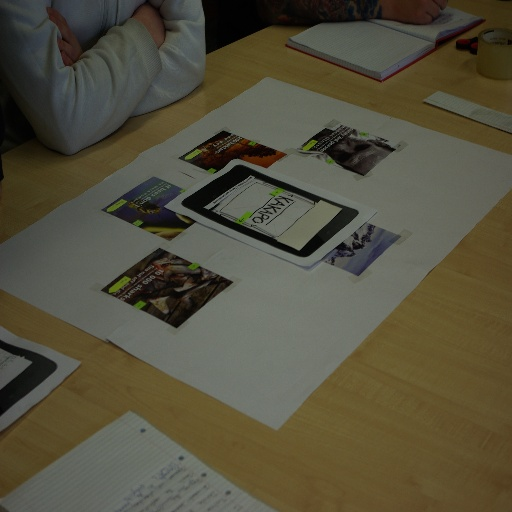hand: (46, 5, 83, 65), (135, 2, 166, 47)
